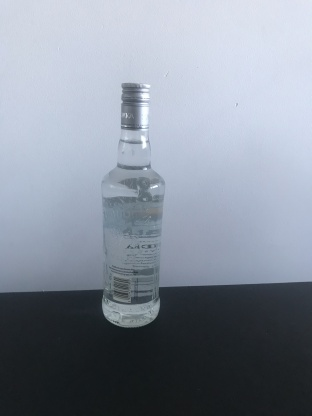nakretka: (119, 81, 152, 131)
